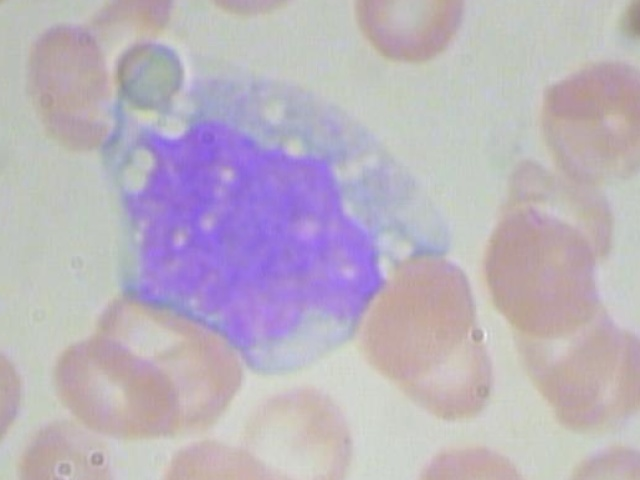RBC: (348, 245, 496, 384), (40, 330, 188, 454), (476, 200, 603, 337), (532, 50, 640, 189), (20, 11, 121, 149), (340, 0, 479, 78), (559, 441, 640, 480), (200, 0, 325, 17)
WBC: (85, 57, 471, 379)
